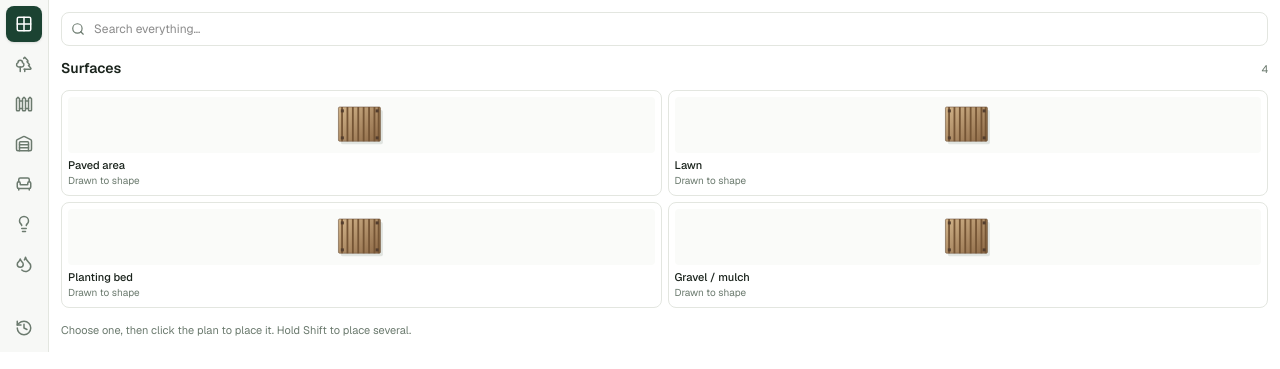
Test: search › says so when nothing matches, rather than showing an empty grid
The width and height of the screenshot is (1280, 369).
In the search field with test id "palette-search": (664, 29) [61,12,1268,46], type "helicopter"
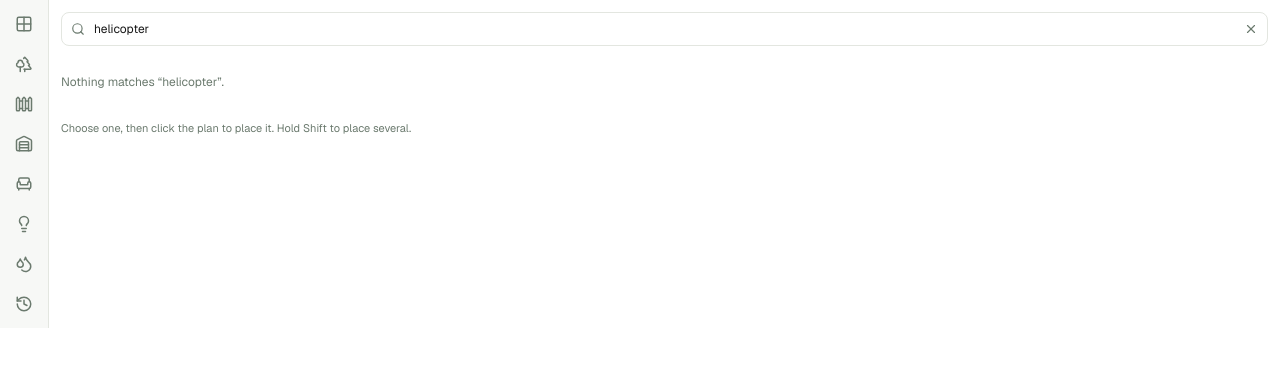
Expected: the text "Nothing matches “helicopter”." is shown, [61,74,224,90]
